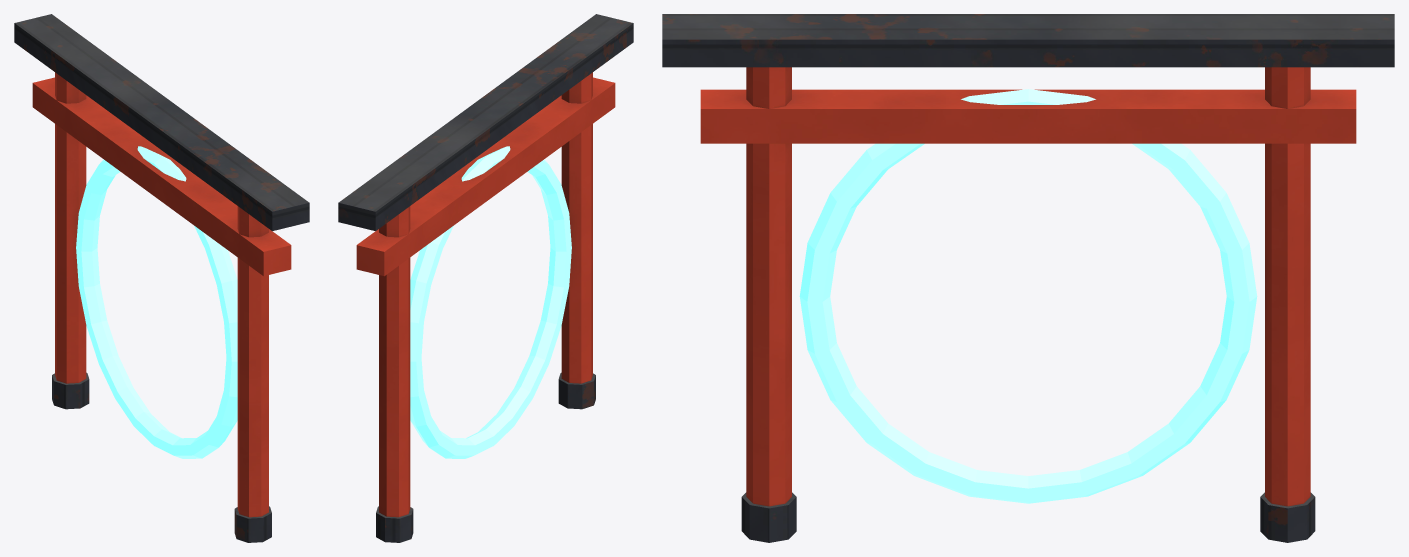
File: teleportport_tex.glb
The picture shows the model from 3 angles, left to right: view 1: azimuth 30°, elevation 25°; view 2: azimuth 150°, elevation 25°; view 3: azimuth 270°, elevation 25°; orthographic projection. The views are drawn at different scales.
Visible parts, largest first — view 1: teleportport; view 2: teleportport; view 3: teleportport.
Part boxes in pixels (x1,y1,x2,y2): teleportport: (14, 14, 309, 542); teleportport: (338, 14, 633, 542); teleportport: (662, 14, 1394, 542).
Bounding box in the file's own units: 0.8 × 7.3 × 9.6.
Materials: 3 (2 with a texture image).
